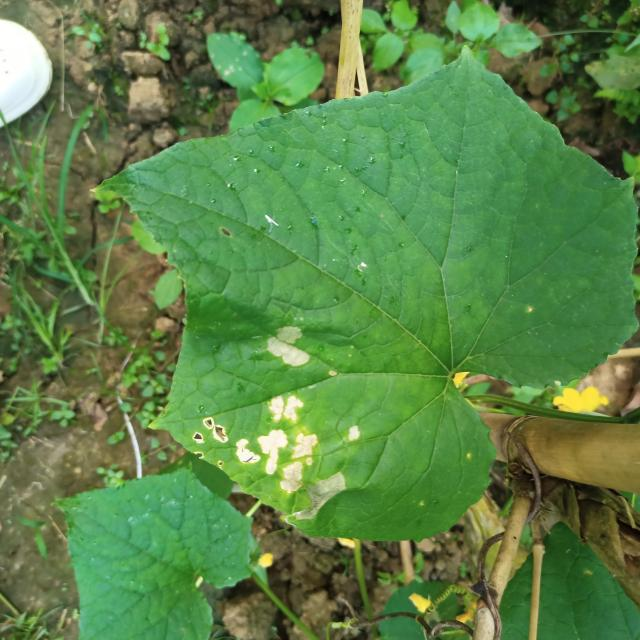disease_cucumber: (196, 390, 357, 525), (264, 320, 309, 370), (343, 422, 365, 447)
